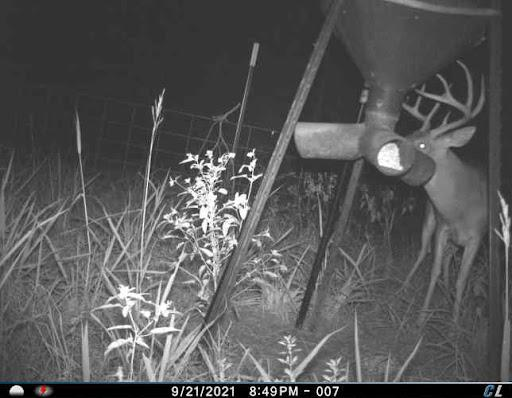Deer: (383, 53, 492, 328)
